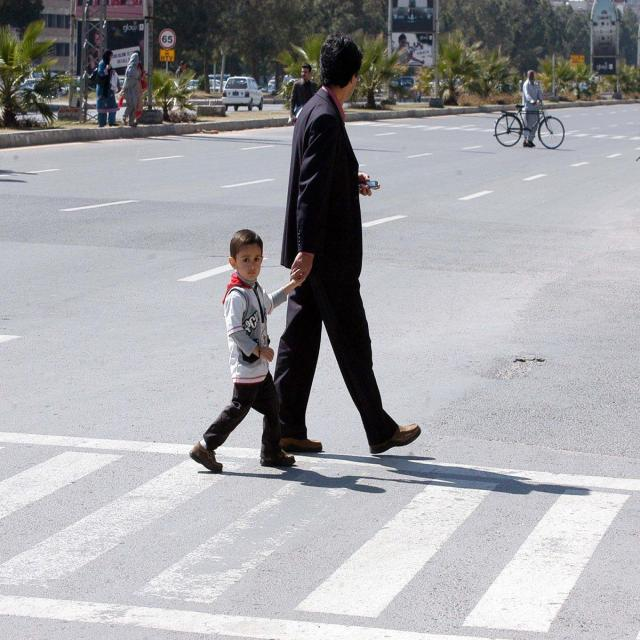person: (291, 14, 430, 456), (178, 233, 290, 472), (519, 70, 549, 149)
